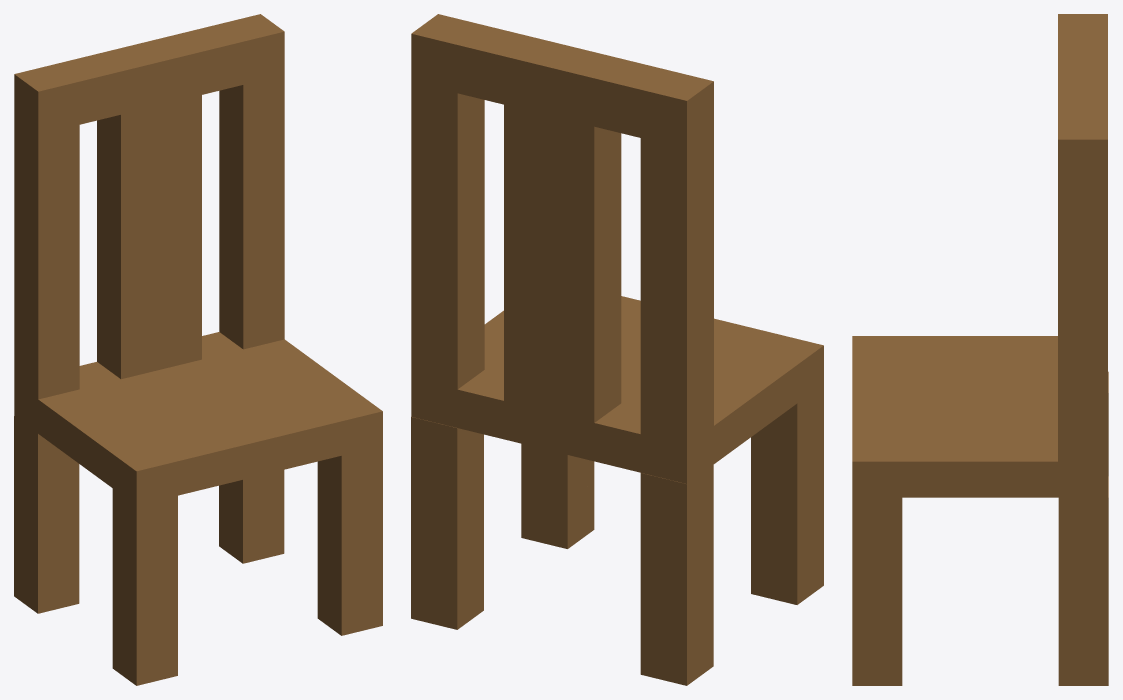
The model's file is Chair.fbx.
The picture shows the model from 3 angles, left to right: view 1: azimuth 30°, elevation 25°; view 2: azimuth 150°, elevation 25°; view 3: azimuth 270°, elevation 25°; orthographic projection. The views are drawn at different scales.
Parts seen in each view (by area): view 1: Chair; view 2: Chair; view 3: Chair.
Part boxes in pixels (left/top/right/bottom): Chair: left=14, top=14, right=382, bottom=685; Chair: left=411, top=14, right=823, bottom=685; Chair: left=852, top=14, right=1108, bottom=685.
Size of the model in its own units: 663 by 282 by 327.
